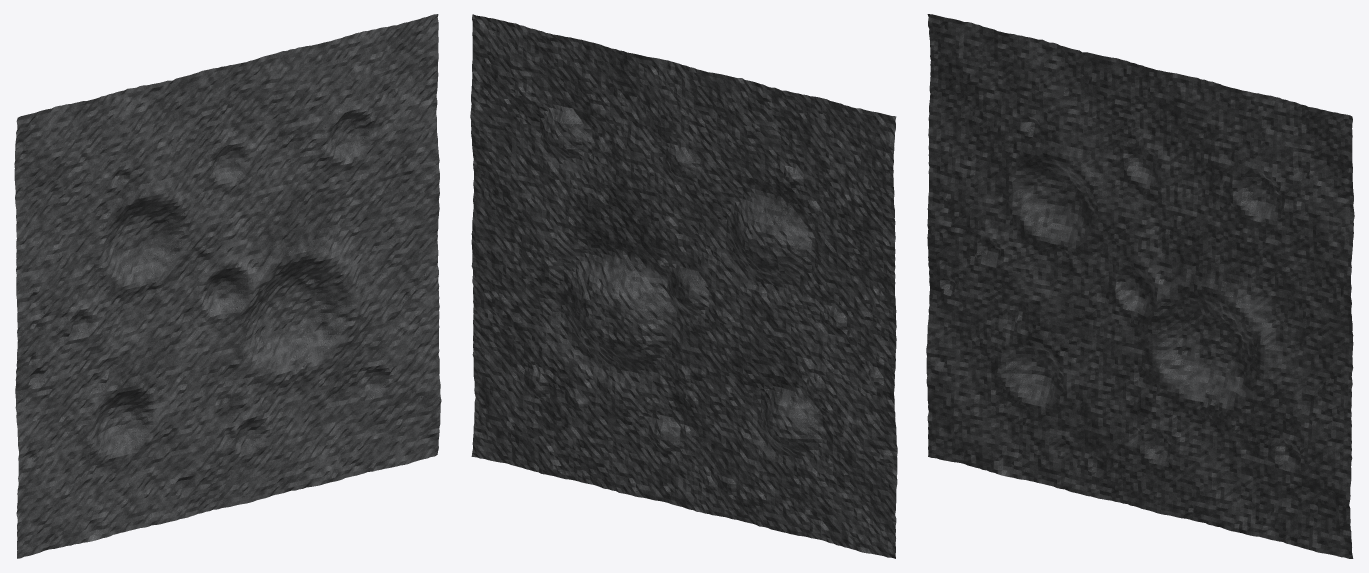
The model's file is suelo_lunar_3d.glb.
3 views of the same model, side by side, from view 1: azimuth 30°, elevation 25°; view 2: azimuth 150°, elevation 25°; view 3: azimuth 330°, elevation 25° (orthographic).
Visible parts, largest first — view 1: world; view 2: world; view 3: world.
Boxes of the visible parts, x1,y1,x2,y2 form: world: (14, 14, 441, 558); world: (470, 14, 897, 558); world: (926, 14, 1354, 558).
Bounding box in the file's own units: 20 × 20 × 1.07.
1 material, 1 textured.
